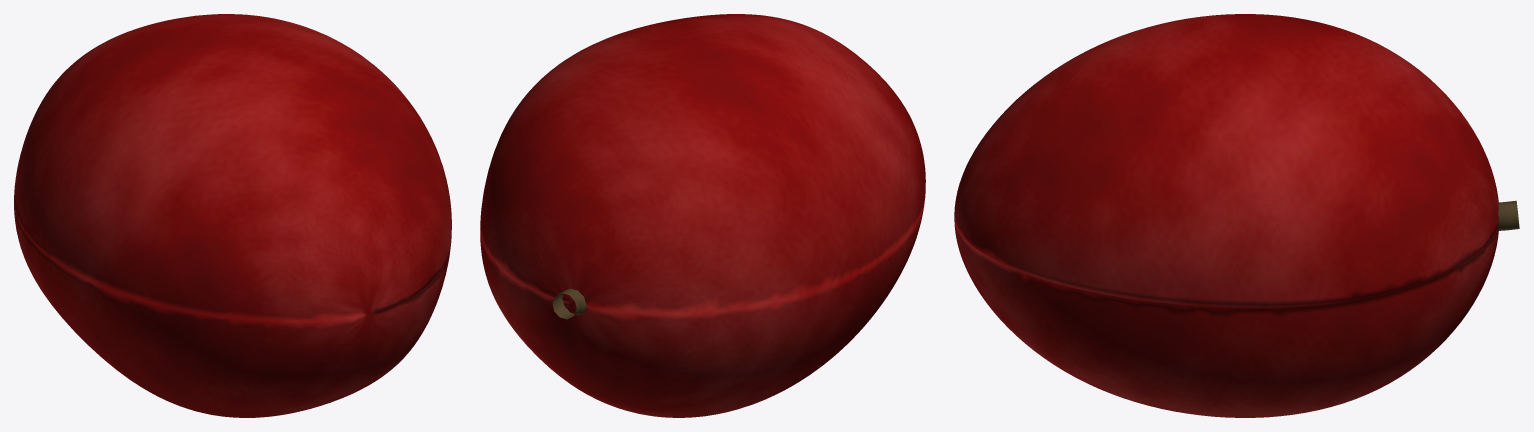
Rendered from cherry-anatomy-v9.glb.
The picture shows the model from 3 angles, left to right: view 1: azimuth 30°, elevation 25°; view 2: azimuth 150°, elevation 25°; view 3: azimuth 270°, elevation 25°; orthographic projection. The views are drawn at different scales.
Visible parts, largest first — view 1: Skin_A, Skin_B; view 2: Skin_A, Skin_B, Calyx; view 3: Skin_A, Skin_B, Calyx.
Part boxes in pixels (bbox=[...]): Skin_A: bbox=[14, 14, 451, 321]; Skin_B: bbox=[14, 204, 450, 417]; Skin_A: bbox=[480, 14, 925, 313]; Skin_B: bbox=[480, 203, 924, 417]; Calyx: bbox=[552, 288, 586, 319]; Skin_A: bbox=[954, 14, 1498, 307]; Skin_B: bbox=[954, 219, 1498, 417]; Calyx: bbox=[1498, 200, 1519, 230].
Bounding box in the file's own units: 0.0152 × 0.014 × 0.0198.
10 materials, 9 textured.
